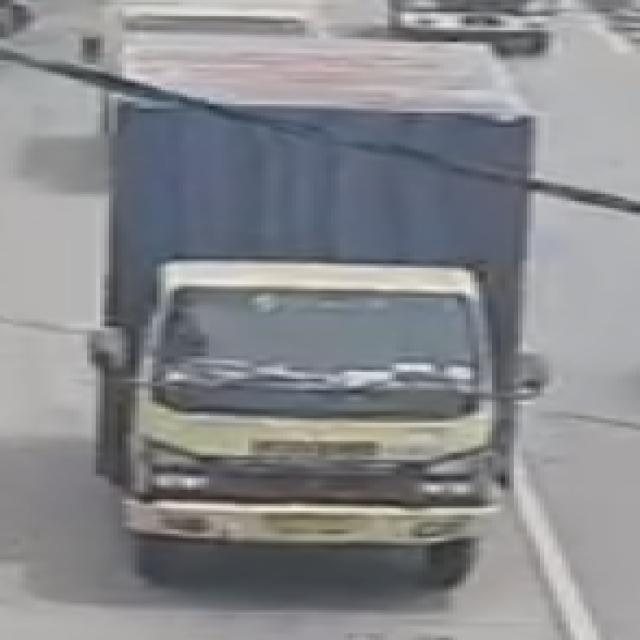truck: (96, 16, 559, 604)
